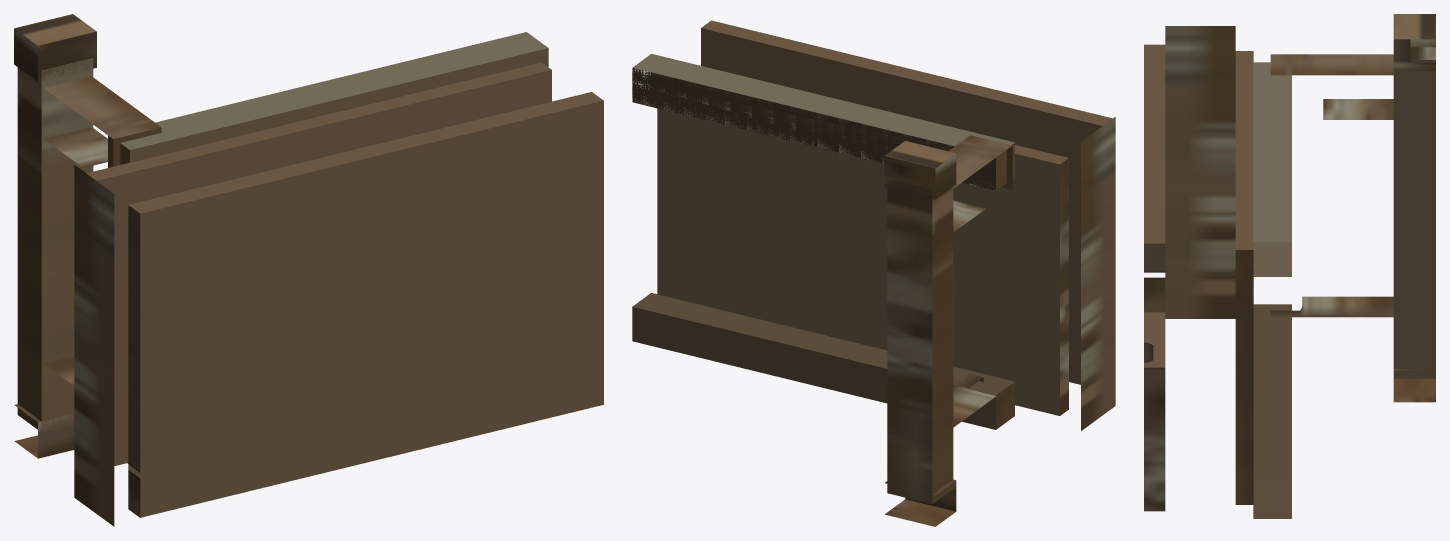
File: section-6.obj
3 renders of one model, left to right at view 1: azimuth 30°, elevation 25°; view 2: azimuth 150°, elevation 25°; view 3: azimuth 270°, elevation 25°, orthographic. The views are drawn at different scales.
Size of the model in its own units: 0.7 by 0.57 by 0.415.
